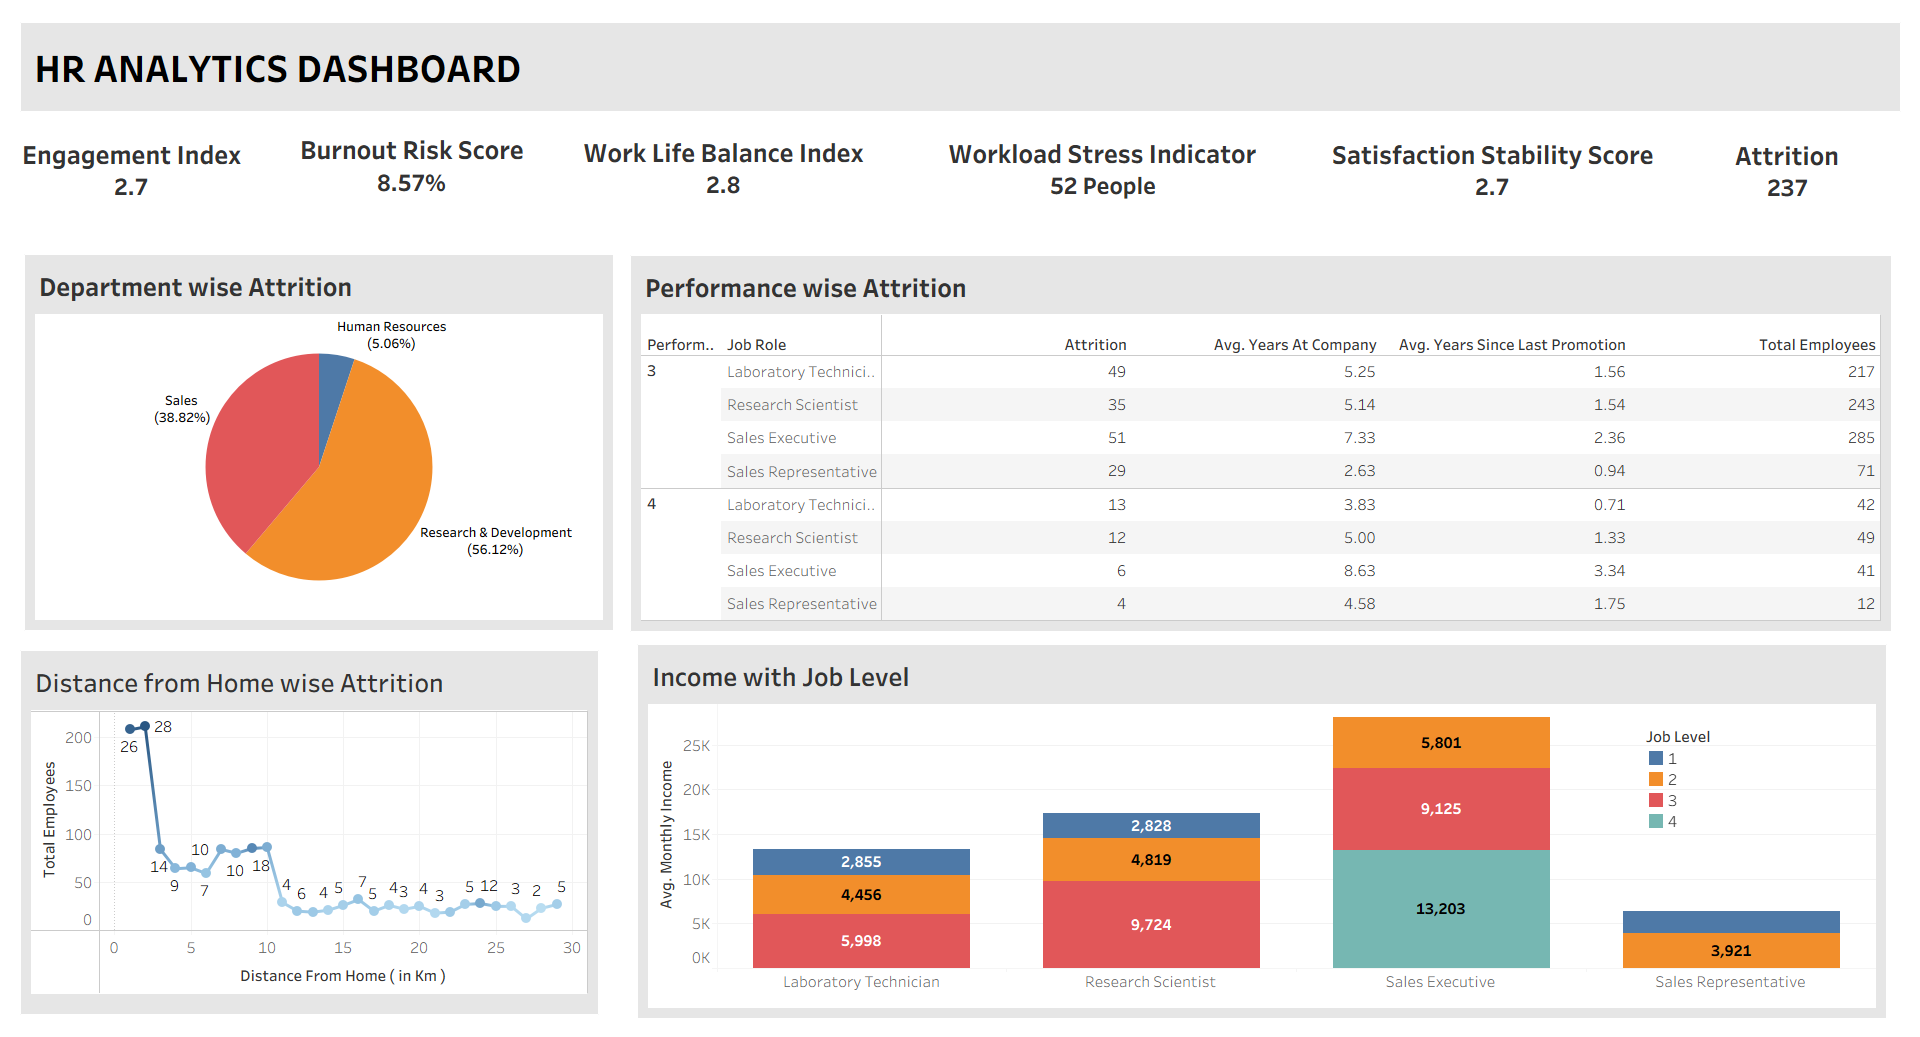

This screenshot's page, from the dashboard's own definition file:
{"tool":"tableau","page":{"name":"Dashboard 1","canvas":[1000,1000],"units":"permille","ordinal":0},"visuals":[{"type":"text","box":[5.3,11.8,990,105.8]},{"type":"worksheet","title":"Kpi2","mark":"Automatic","box":[152.1,106.9,243.2,119.9]},{"type":"worksheet","title":"Kpi3","mark":"Automatic","box":[298.7,129.3,316.8,119.9]},{"type":"worksheet","title":"Kpi4","mark":"Automatic","box":[491.2,130.4,197.3,101.1]},{"type":"worksheet","title":"KPI","mark":"Text","box":[6.5,131.6,270.9,106.9]},{"type":"worksheet","title":"Kpi5","mark":"Automatic","box":[689.2,131.6,221.5,98.7]},{"type":"worksheet","title":"Sheet 6","mark":"Pie","box":[7.1,233.8,317.6,380.7]},{"type":"worksheet","title":"Sheet 18","mark":"Automatic","rows":["PerformanceRating","JobRole"],"box":[322.9,235,667.5,380.7]},{"type":"worksheet","title":"Sheet 17","mark":"Automatic","rows":["MonthlyIncome"],"cols":["JobRole"],"box":[326.5,607.5,661.4,378.4]},{"type":"worksheet","title":"Sheet 9","mark":"Automatic","rows":["Calculation_1689955022716935"],"cols":["DistanceFromHome","DistanceFromHome"],"box":[5.3,613.4,312.2,369]},{"type":"legend","title":"Sheet 17","param":"[federated.09k6c6g13nnmzp1ejvh9a1otij7w].[none:JobLevel:ok]","box":[857.5,695.6,82.8,124.6]}]}

Visuals, with their boxes on the dashboard's canvas, which has no fixed pixel size, in thousandths of its width and height (x1, y1, x2, y2). These are canvas units, not pixel positions in the 1920x1037 screenshot, which may show the page scaled, cropped or inside an application window:
text: 5:12:995:118
"Kpi2" worksheet: 152:107:395:227
"Kpi3" worksheet: 299:129:616:249
"Kpi4" worksheet: 491:130:688:232
"KPI" worksheet (Text marks): 6:132:277:238
"Kpi5" worksheet: 689:132:911:230
"Sheet 6" worksheet (Pie marks): 7:234:325:614
"Sheet 18" worksheet: 323:235:990:616
"Sheet 17" worksheet: 326:608:988:986
"Sheet 9" worksheet: 5:613:318:982
"Sheet 17" legend: 858:696:940:820
